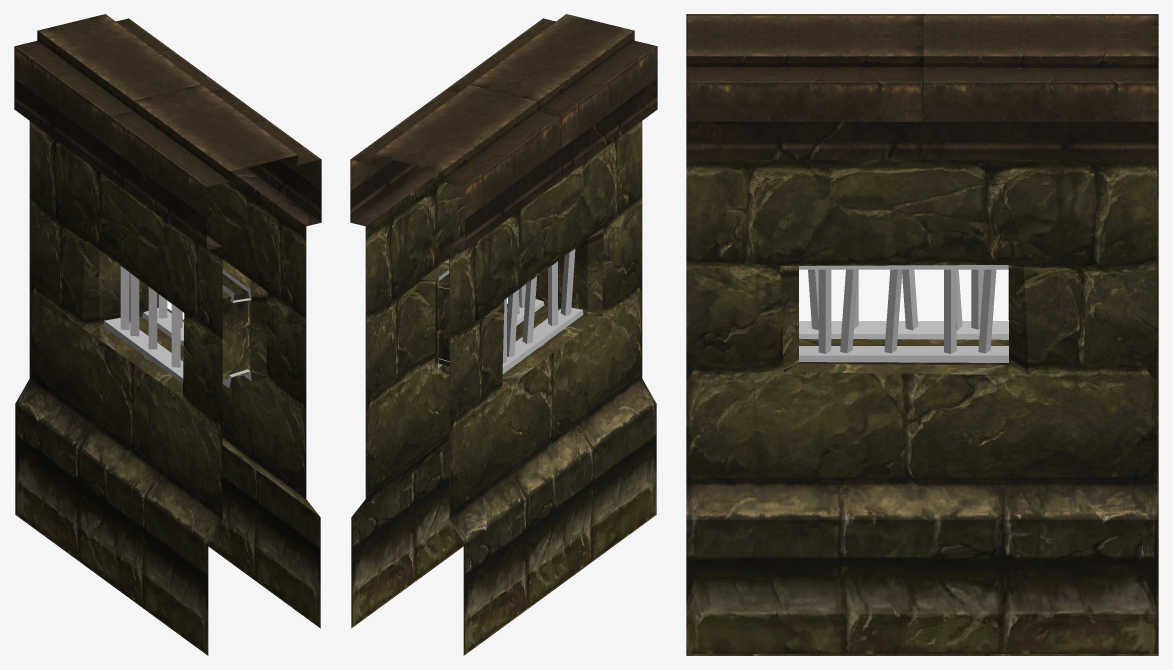
Rendered from Stage001_WALL_05.FBX.
The picture shows the model from 3 angles, left to right: view 1: azimuth 30°, elevation 25°; view 2: azimuth 150°, elevation 25°; view 3: azimuth 270°, elevation 25°; orthographic projection. The views are drawn at different scales.
Parts seen in each view (by area): view 1: Stage001_WALL_05; view 2: Stage001_WALL_05; view 3: Stage001_WALL_05.
Part boxes in pixels (bbox=[...]): Stage001_WALL_05: bbox=[14, 14, 321, 655]; Stage001_WALL_05: bbox=[350, 14, 657, 655]; Stage001_WALL_05: bbox=[686, 14, 1158, 655].
Bounding box in the file's own units: 172 × 685 × 500.
